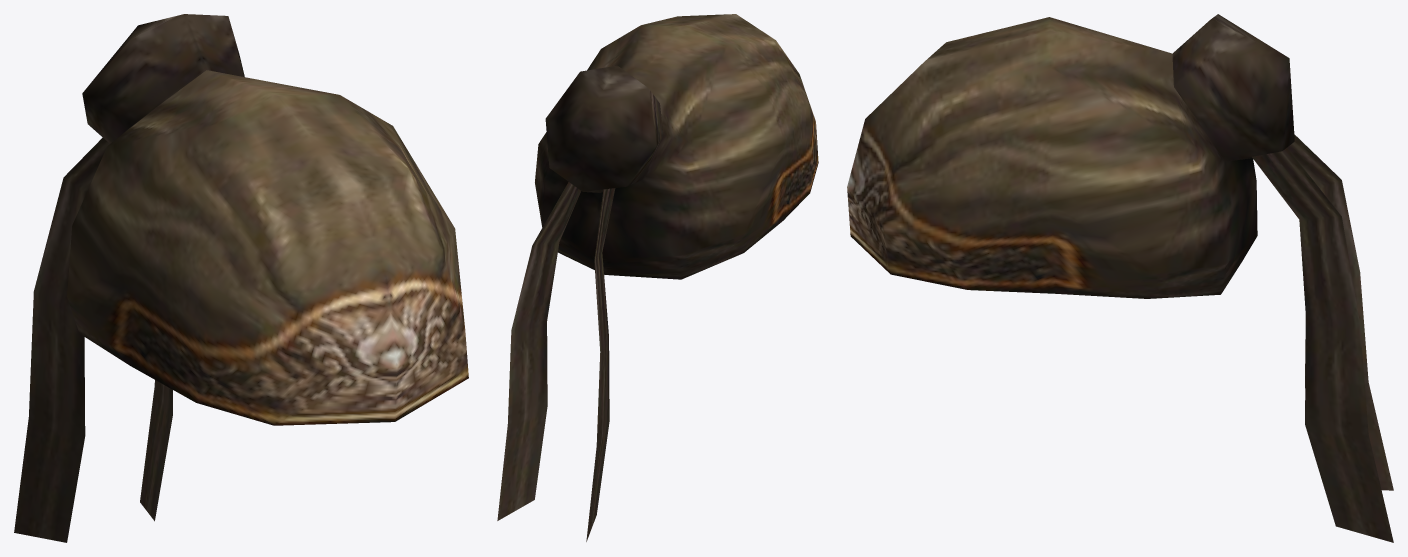
File: light_01_ha.glb
3 views of the same model, side by side, from view 1: azimuth 30°, elevation 25°; view 2: azimuth 150°, elevation 25°; view 3: azimuth 270°, elevation 25° (orthographic). The views are drawn at different scales.
Visible parts, largest first — view 1: light_01_ha; view 2: light_01_ha; view 3: light_01_ha.
Part boxes in pixels (x1,y1,x2,y2): light_01_ha: (14, 14, 468, 542); light_01_ha: (497, 14, 818, 541); light_01_ha: (847, 14, 1393, 542).
Bounding box in the file's own units: 0.1607 × 0.3019 × 0.3009.
Materials: 1 (1 with a texture image).
